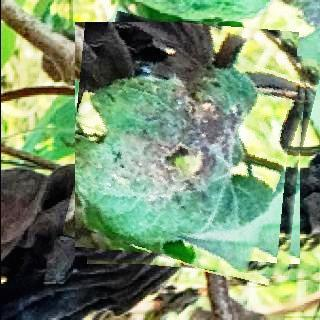blight: (74, 23, 311, 277)
